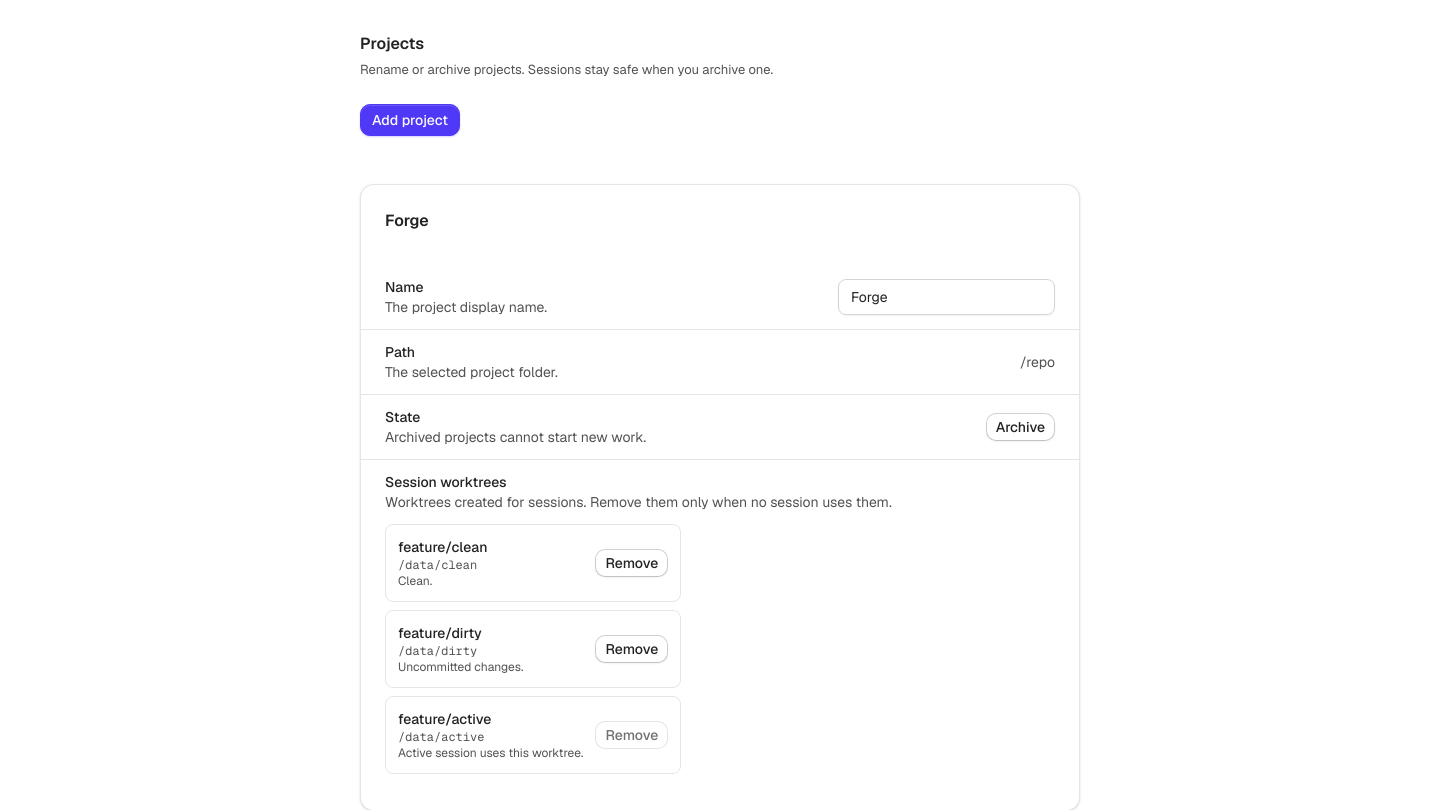
Test: ProjectSettings worktrees › lists worktrees with state and removes a removable worktree
The image size is (1440, 810).
Expected: the text "feature/clean" is shown, top-left (398, 537), bottom-right (488, 557)
Expected: the text "Uncommitted changes." is shown, top-left (398, 659), bottom-right (523, 675)
Click the button with aria-label "Remove worktree feature/clean" at (632, 563), box top-left (595, 549), bottom-right (668, 577)
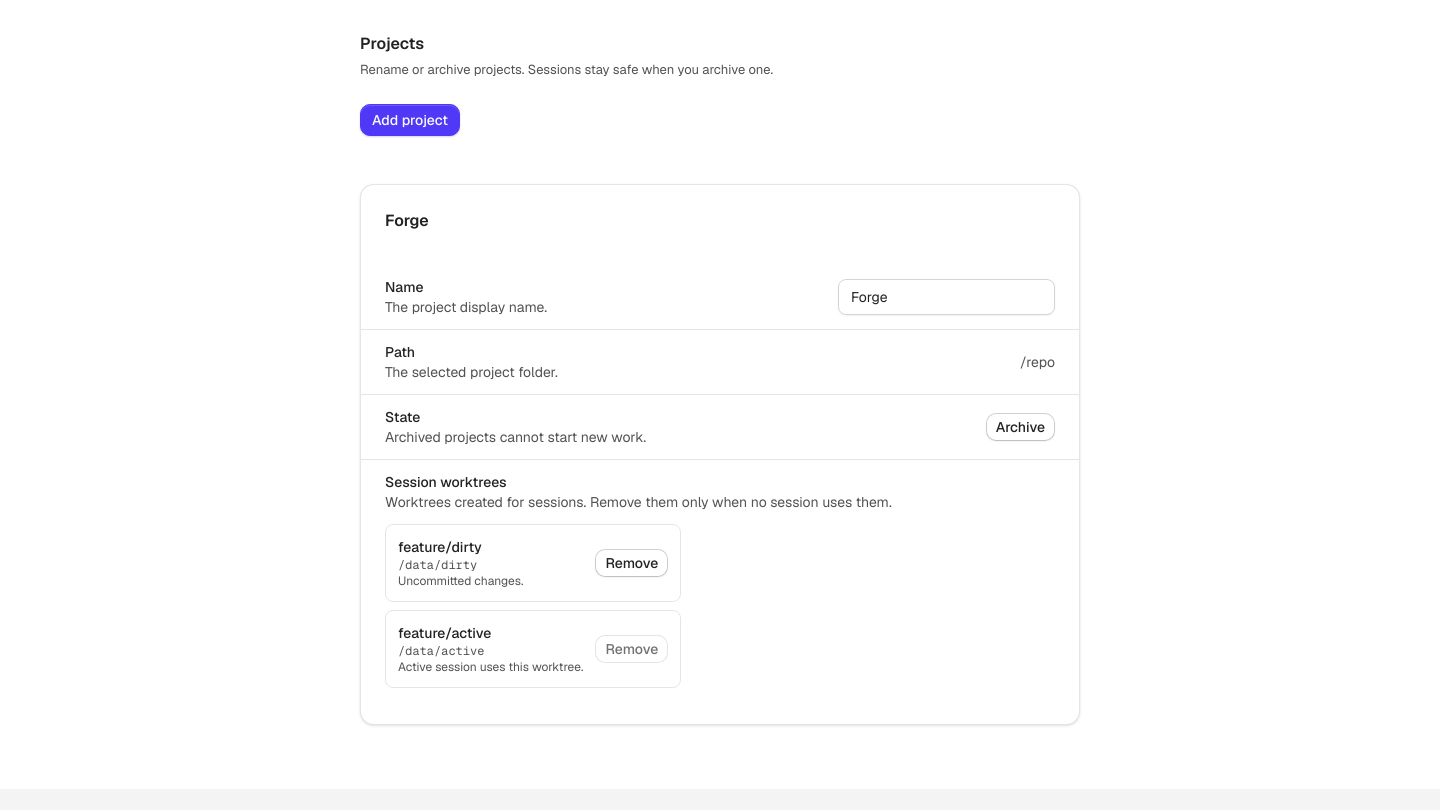
Expected: the text "feature/clean" is gone
